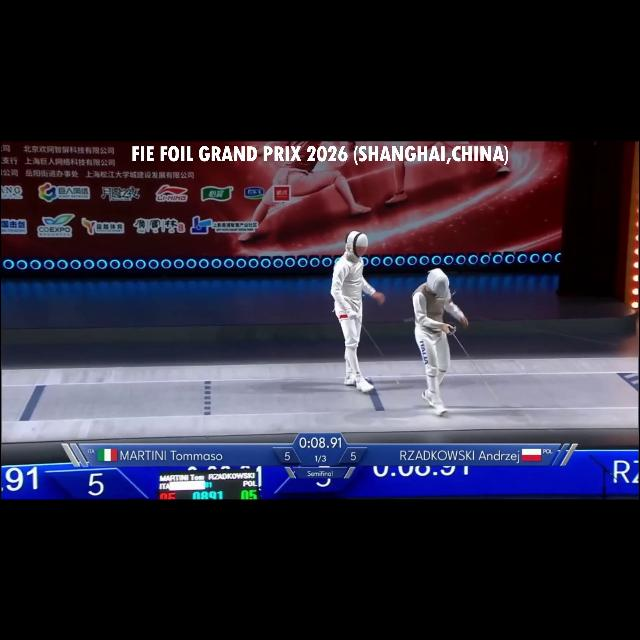blade: (445, 322, 501, 408), (348, 310, 402, 390)
